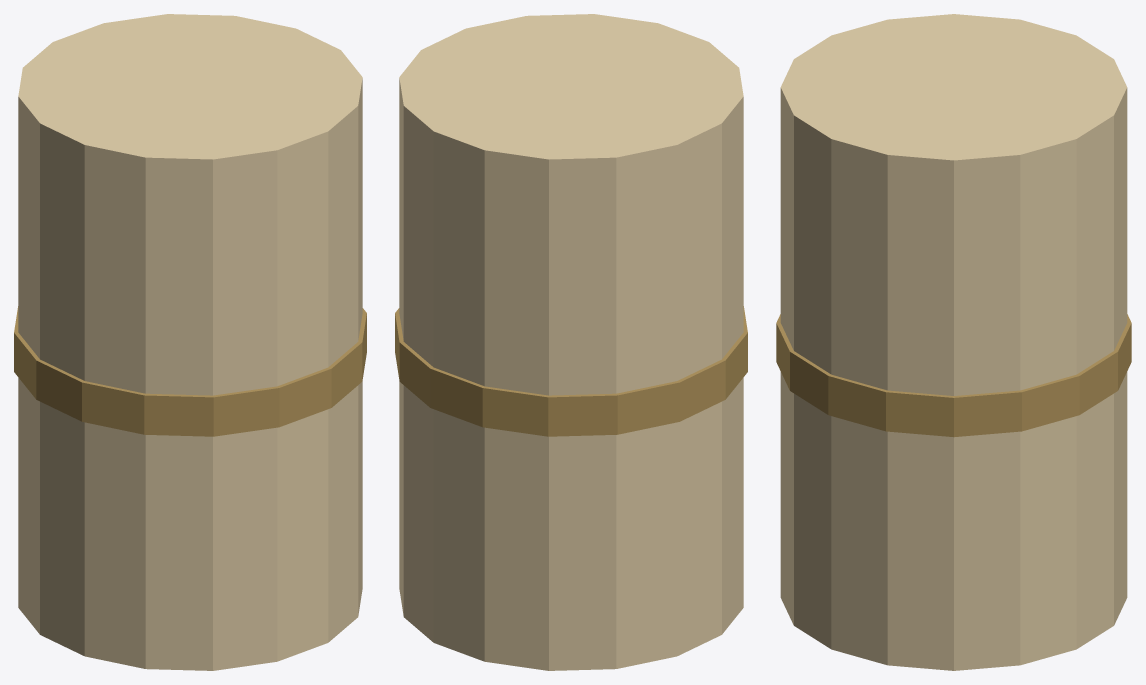
File: pickup_paper.glb
3 renders of one model, left to right at view 1: azimuth 30°, elevation 25°; view 2: azimuth 150°, elevation 25°; view 3: azimuth 270°, elevation 25°, orthographic.
Parts seen in each view (by area): view 1: PICKUP_Paper; view 2: PICKUP_Paper; view 3: PICKUP_Paper.
Boxes of the visible parts, <box> form: PICKUP_Paper: <box>14,14,366,670</box>; PICKUP_Paper: <box>395,14,747,670</box>; PICKUP_Paper: <box>776,14,1131,670</box>.
Bounding box in the file's own units: 0.164 × 0.26 × 0.164.
